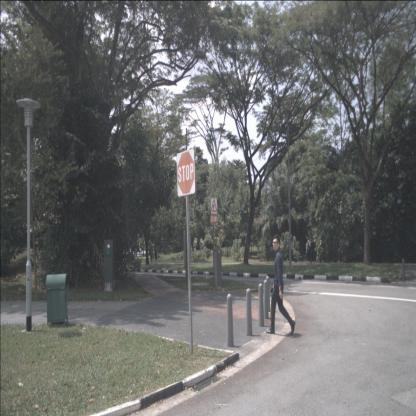human-pedestrian-adult: (266, 234, 296, 335), (305, 236, 313, 263), (154, 245, 157, 263), (150, 246, 153, 263)
